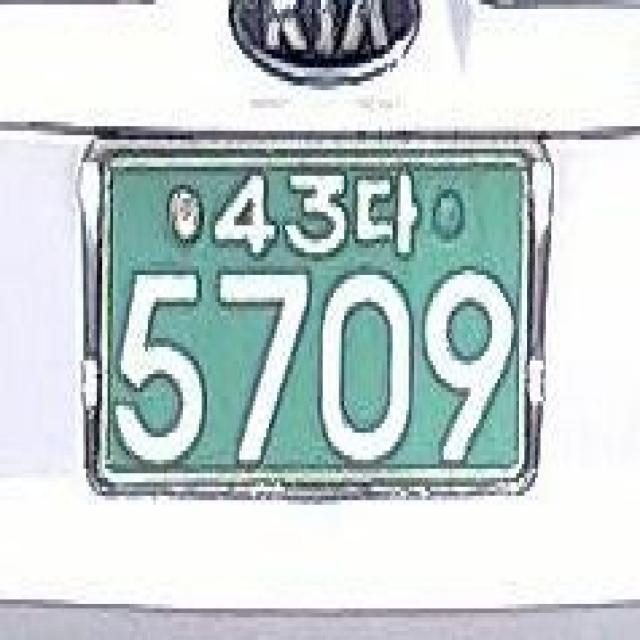illegal_plate: (56, 106, 564, 534)
